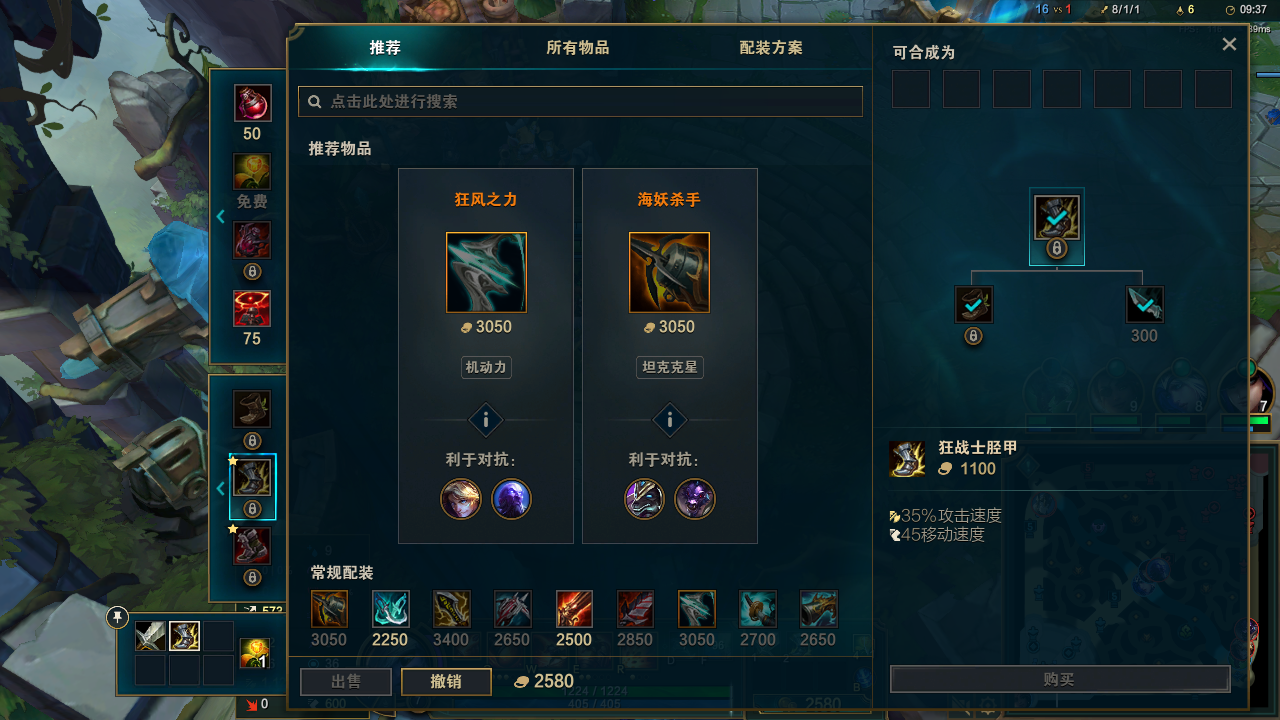TJJM: (329, 38, 448, 82)
